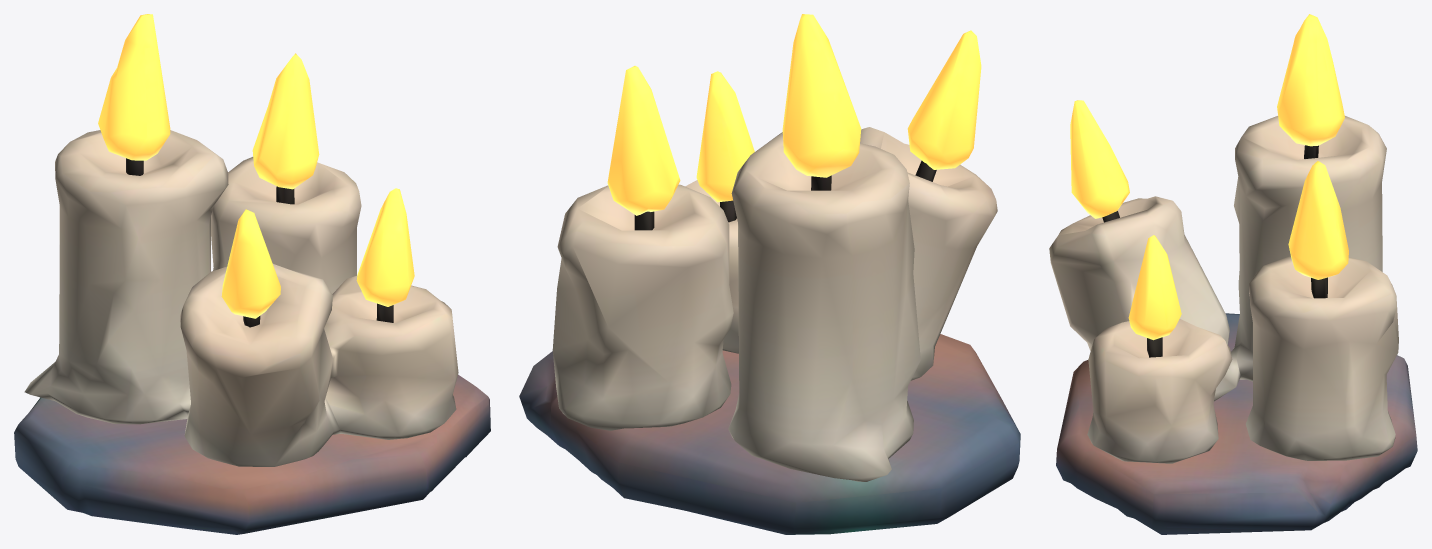
Rendered from candle-cluster.glb.
The picture shows the model from 3 angles, left to right: view 1: azimuth 30°, elevation 25°; view 2: azimuth 150°, elevation 25°; view 3: azimuth 270°, elevation 25°; orthographic projection. The views are drawn at different scales.
Parts seen in each view (by area): view 1: stone, flames; view 2: stone, flames; view 3: stone, flames.
Part boxes in pixels (bbox=[...]): stone: bbox=[14, 130, 490, 534]; flames: bbox=[98, 14, 414, 318]; stone: bbox=[519, 127, 1020, 534]; flames: bbox=[607, 14, 981, 215]; stone: bbox=[1049, 116, 1417, 534]; flames: bbox=[1070, 14, 1348, 340].
Size of the model in its own units: 0.264 by 0.2712 by 0.2232.
2 materials, 2 textured.
